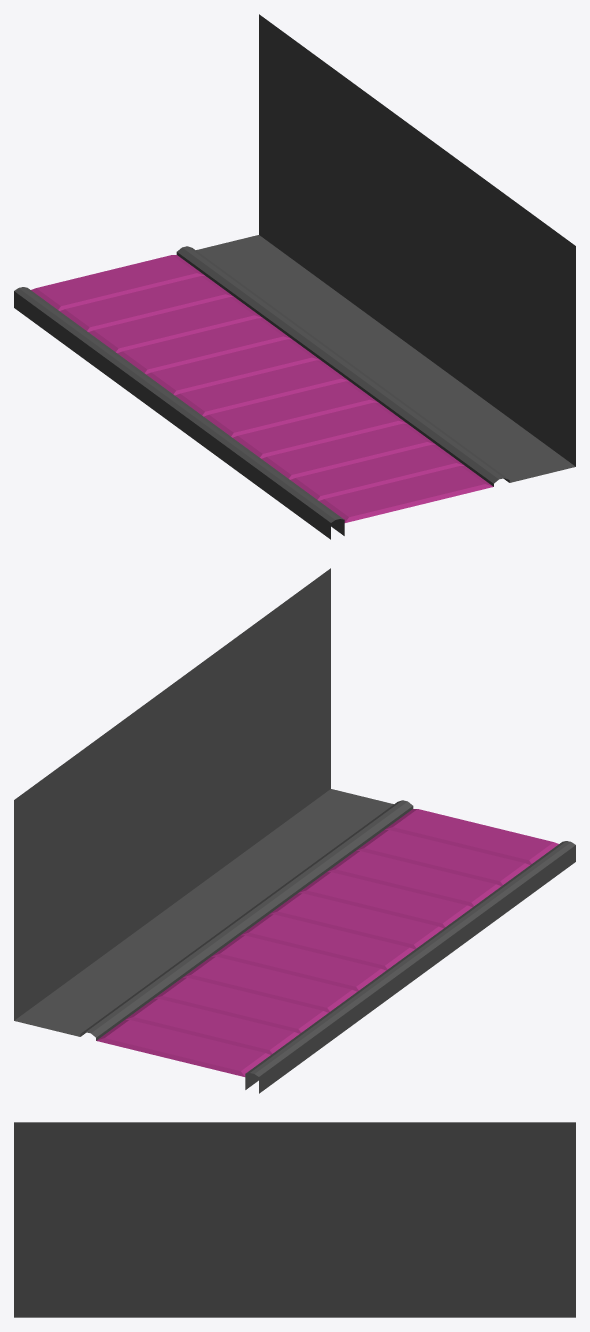
Rendered from road5.fbx.
3 views of the same model, one above another, from view 1: azimuth 30°, elevation 25°; view 2: azimuth 150°, elevation 25°; view 3: azimuth 270°, elevation 25° (orthographic). The views are drawn at different scales.
Visible parts, largest first — view 1: base; view 2: base; view 3: base.
Part boxes in pixels (x1=…): base: x1=14, y1=14, x2=575, y2=539; base: x1=14, y1=568, x2=575, y2=1093; base: x1=14, y1=1122, x2=575, y2=1317.
Size of the model in its own units: 1084 by 989 by 2429.
